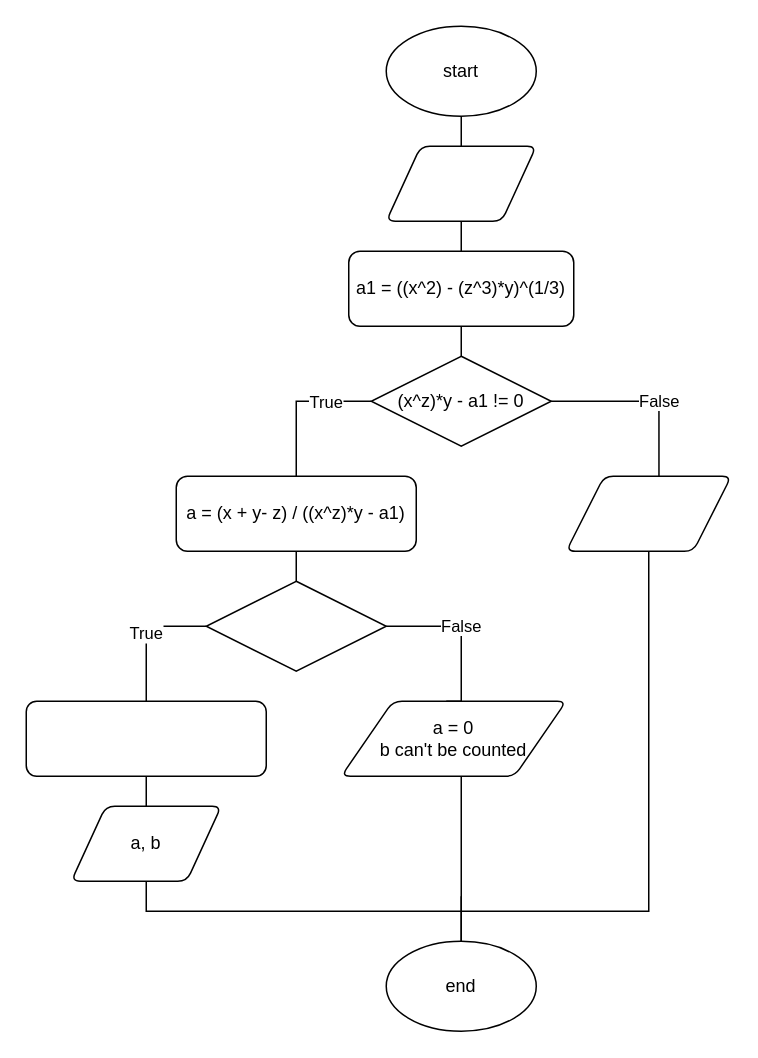
The diagram is 758 pixels wide and 1058 high, and some of its shapes have lost their labels. The shapes that lost their labels are listed below. From the top down, each one's box as (x1, y1, x2, y2) in pixels, then its label:
(385, 145, 536, 221): x, y, z є R
(565, 475, 731, 551): ERROR: incorrect data
(205, 580, 386, 671): a != 0
(25, 700, 266, 776): b = Cos((x*y+y^2)/(a^2))
